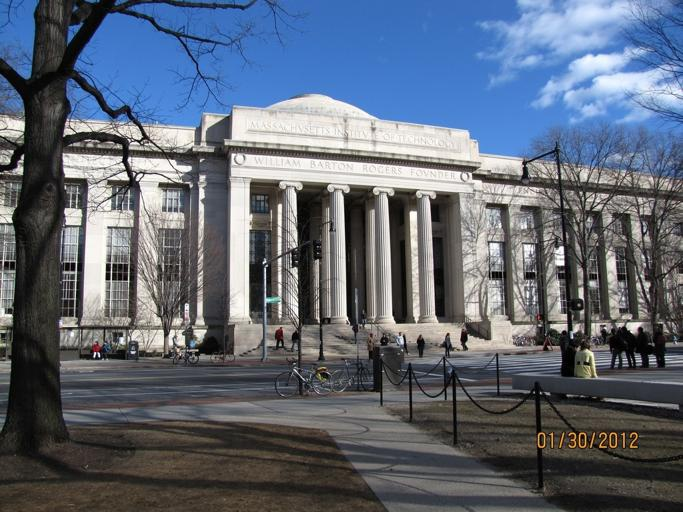non-vehicle: (271, 354, 333, 399), (328, 356, 375, 393), (172, 346, 199, 366), (209, 347, 235, 364)
